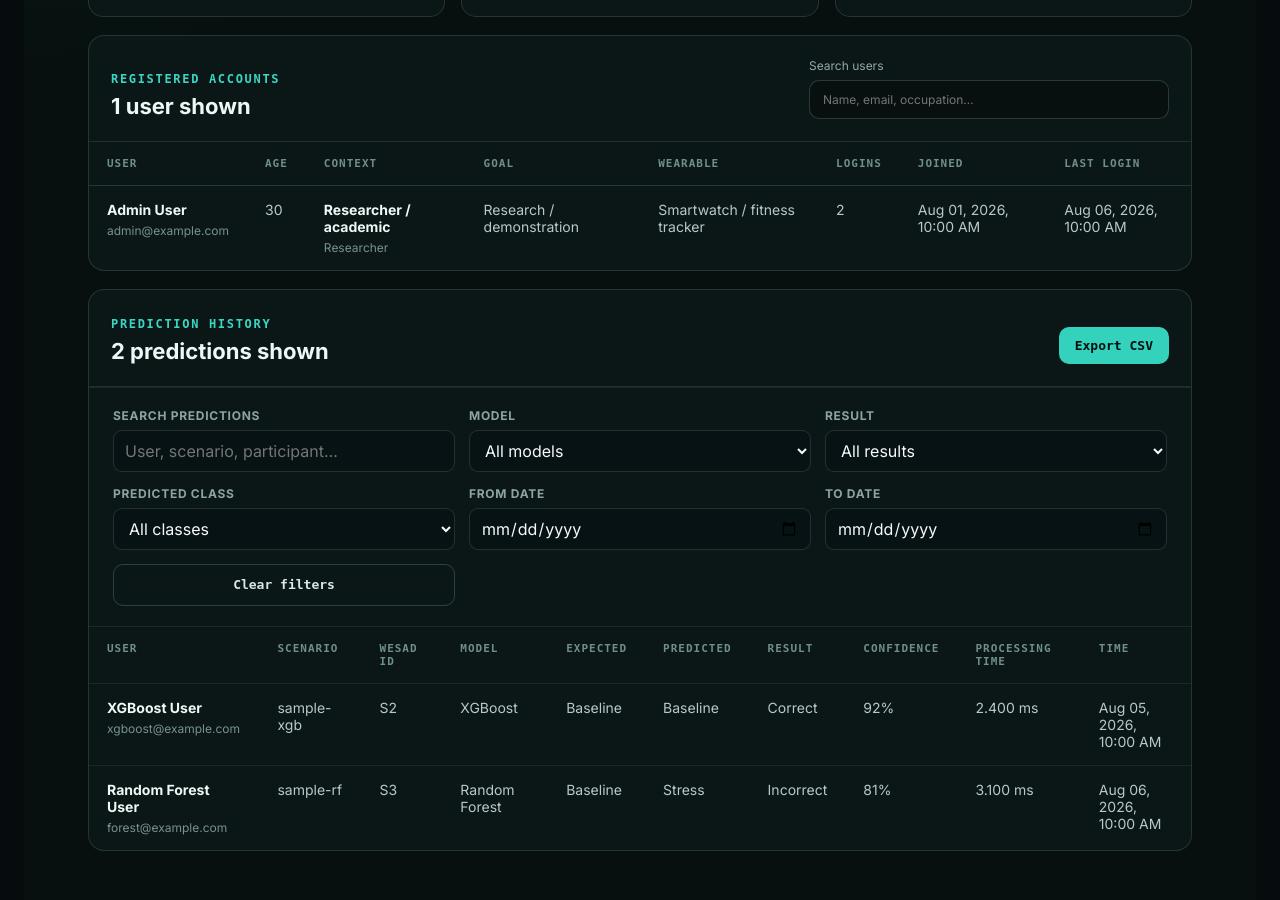
Test: AdminPage prediction filters › filters prediction history by model
The width and height of the screenshot is (1280, 900).
(page scrolled)
Expected: the heading "2 predictions shown" is shown, [111, 338, 329, 364]
Expected: the text "XGBoost User" is shown, [107, 699, 202, 716]
Select "Random Forest" in the dropdown labelled "Model" at (640, 451), box [469, 430, 811, 472]
(page scrolled)
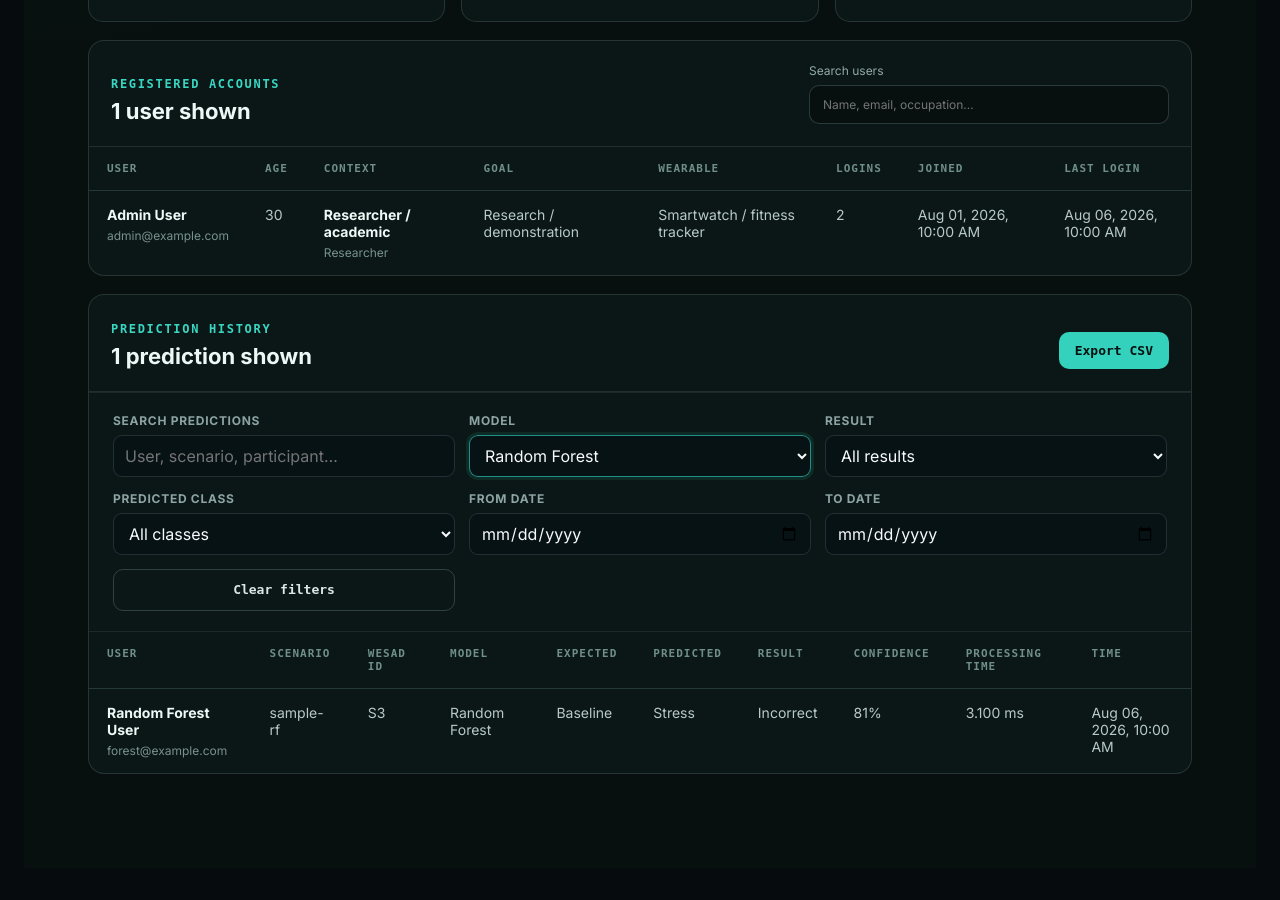
Expected: the text "Random Forest User" is shown, [107, 704, 210, 738]
Now the heading "1 prediction shown" is shown, box [111, 343, 312, 369]
Now the text "XGBoost User" is gone
